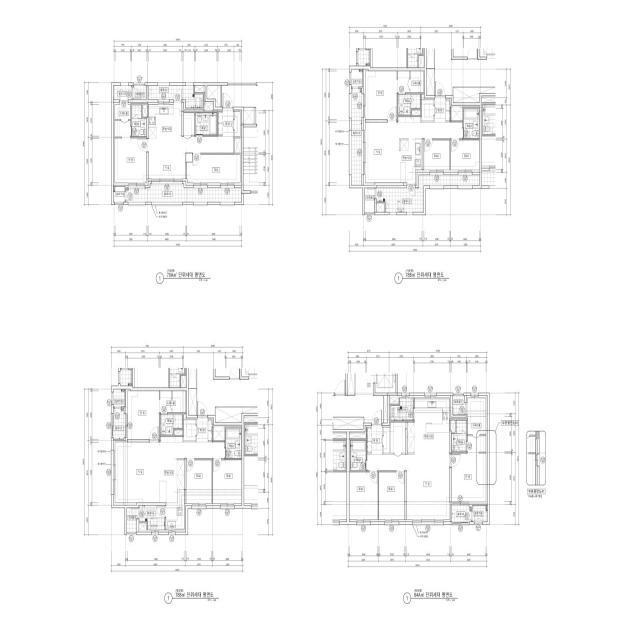space_balconi: (376, 175, 479, 212), (126, 184, 242, 202), (148, 86, 203, 108), (351, 88, 362, 185), (140, 506, 165, 530), (391, 398, 413, 421), (113, 408, 125, 439), (452, 505, 471, 522), (113, 86, 131, 100)
space_bedroom: (452, 453, 486, 502), (365, 71, 397, 119), (128, 391, 159, 439), (187, 155, 240, 183), (115, 138, 146, 183), (349, 472, 378, 520), (379, 472, 405, 520), (213, 460, 242, 503), (186, 460, 212, 503), (451, 140, 479, 170), (424, 140, 450, 170)
space_dressroom: (468, 398, 486, 452), (160, 391, 185, 413), (398, 71, 423, 93), (115, 102, 130, 137)
space_front: (218, 109, 240, 137), (367, 425, 383, 453), (197, 417, 212, 442), (435, 97, 450, 122)
space_kitchen: (407, 398, 450, 453), (166, 459, 184, 530), (148, 102, 182, 137), (399, 139, 422, 183)
space_living_room: (115, 437, 225, 503), (365, 117, 463, 183), (367, 453, 450, 520), (148, 137, 233, 179)
space_other: (391, 422, 405, 453), (207, 86, 220, 107), (127, 508, 138, 532), (184, 420, 196, 441), (422, 100, 434, 121), (453, 396, 466, 415), (184, 113, 194, 135), (365, 188, 374, 212), (189, 389, 197, 415), (133, 86, 146, 100), (243, 108, 254, 124), (451, 107, 463, 121), (213, 427, 225, 441), (384, 428, 390, 453), (349, 433, 366, 439), (384, 396, 387, 423), (235, 138, 240, 153), (376, 203, 384, 212), (204, 103, 213, 111), (195, 86, 205, 93), (390, 398, 399, 404), (139, 523, 146, 530), (451, 420, 455, 432), (143, 105, 147, 117), (174, 430, 183, 435), (412, 110, 420, 115)
space_outdoor_room: (472, 506, 487, 522), (113, 389, 125, 407), (351, 69, 363, 87), (113, 187, 125, 202)
space_toilet: (350, 440, 366, 471), (195, 113, 217, 135), (160, 414, 183, 435), (464, 108, 479, 139), (398, 94, 420, 115), (226, 428, 241, 458), (132, 105, 146, 137), (452, 420, 466, 452)
